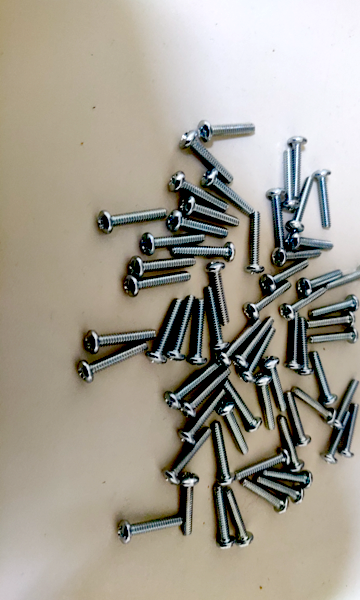longscrew: (75, 346, 150, 386), (182, 131, 236, 186), (95, 198, 170, 234), (180, 393, 228, 445), (163, 433, 211, 484), (165, 364, 218, 408), (180, 372, 233, 416), (148, 297, 181, 365), (243, 328, 279, 385), (225, 489, 258, 551), (205, 174, 253, 216), (172, 174, 229, 209), (220, 318, 261, 362), (114, 519, 184, 544), (211, 423, 237, 489), (321, 411, 351, 468), (169, 298, 196, 361), (237, 319, 273, 366), (246, 283, 291, 320), (227, 380, 260, 430), (237, 448, 292, 478), (281, 287, 331, 320), (293, 389, 337, 424), (288, 178, 317, 231), (205, 291, 230, 352), (183, 200, 241, 226), (119, 272, 190, 293), (209, 264, 233, 325), (332, 378, 360, 430), (193, 120, 255, 143), (211, 488, 234, 550), (84, 331, 155, 351), (137, 234, 204, 255), (178, 475, 200, 538), (257, 478, 308, 505), (192, 300, 212, 366), (286, 390, 310, 445), (262, 261, 309, 289), (166, 214, 227, 235), (298, 267, 342, 296), (245, 213, 264, 280), (222, 401, 246, 454), (308, 308, 358, 333), (282, 417, 305, 471), (174, 241, 236, 261), (311, 295, 360, 320), (311, 323, 360, 348), (325, 263, 360, 296), (316, 352, 337, 407), (269, 181, 286, 247), (243, 486, 287, 511), (269, 357, 287, 418), (258, 376, 276, 436), (315, 173, 333, 232), (342, 402, 360, 460), (293, 133, 309, 198), (271, 248, 322, 268), (127, 260, 196, 274), (281, 150, 295, 214), (285, 313, 300, 372), (297, 319, 312, 377), (262, 472, 313, 488), (288, 235, 335, 252)
